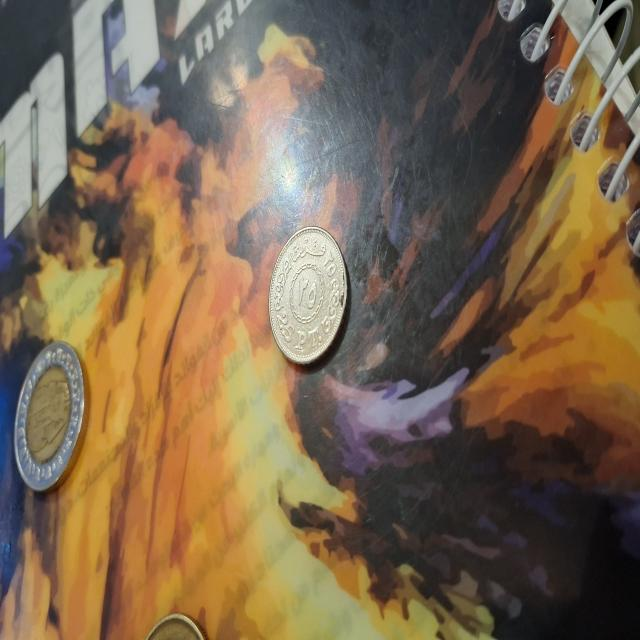One Pound: (13, 327, 88, 504)
quarter pound: (264, 220, 351, 366)
